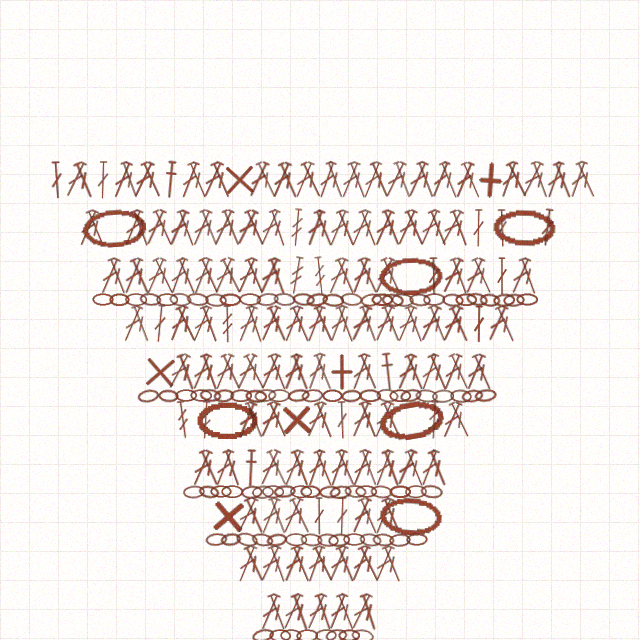chain: (376, 396, 446, 444), (378, 495, 444, 537), (81, 207, 147, 249), (378, 256, 444, 296), (492, 208, 557, 248), (196, 401, 259, 439), (235, 531, 259, 548), (399, 387, 423, 404), (305, 291, 329, 308), (465, 291, 489, 308), (251, 532, 274, 548), (359, 532, 382, 548), (329, 484, 352, 500), (137, 388, 160, 404), (461, 388, 484, 404), (360, 292, 383, 308), (266, 532, 288, 548), (198, 484, 220, 500), (205, 532, 228, 547), (273, 484, 296, 499), (344, 484, 367, 499), (420, 484, 443, 499), (199, 388, 222, 403), (254, 388, 277, 403), (287, 388, 310, 403), (301, 388, 324, 403), (376, 388, 399, 403), (474, 388, 497, 403), (139, 292, 162, 307), (169, 292, 192, 307), (186, 292, 209, 307), (256, 292, 279, 307), (273, 292, 296, 307), (292, 292, 315, 307), (340, 292, 363, 307), (220, 532, 242, 547), (213, 388, 235, 403), (300, 533, 323, 547), (372, 533, 395, 547), (370, 485, 393, 499), (415, 389, 438, 403), (381, 293, 404, 307), (391, 293, 414, 307), (251, 627, 275, 640), (317, 533, 339, 547), (328, 533, 350, 547), (389, 533, 411, 547), (183, 485, 205, 499), (241, 485, 263, 499), (252, 485, 274, 499), (319, 485, 341, 499), (245, 389, 267, 403), (432, 389, 454, 403), (450, 389, 472, 403), (205, 293, 227, 307), (322, 293, 344, 307), (409, 293, 431, 307), (442, 293, 464, 307), (479, 293, 501, 307), (493, 293, 515, 307), (503, 293, 525, 307), (158, 389, 179, 403), (341, 389, 362, 403), (285, 533, 307, 546), (343, 533, 365, 546), (406, 533, 428, 546), (210, 485, 232, 498), (221, 485, 243, 498), (262, 485, 284, 498), (290, 485, 312, 498), (355, 485, 377, 498), (389, 485, 411, 498), (405, 485, 427, 498), (175, 389, 197, 402), (190, 389, 212, 402), (230, 389, 252, 402), (268, 389, 290, 402), (359, 389, 381, 402), (389, 389, 411, 402), (92, 293, 114, 306), (125, 293, 147, 306), (156, 293, 178, 306), (219, 293, 241, 306), (239, 293, 261, 306), (371, 293, 393, 306), (423, 293, 445, 306), (455, 293, 477, 306), (516, 293, 538, 306), (325, 628, 348, 640), (351, 628, 374, 640), (300, 485, 321, 498), (322, 389, 343, 402), (109, 293, 130, 306), (269, 629, 291, 640), (280, 629, 302, 640), (296, 629, 318, 640), (315, 629, 337, 640), (338, 629, 360, 640)
double: (164, 352, 193, 391), (437, 208, 466, 247), (347, 592, 375, 631), (256, 544, 284, 583), (355, 544, 383, 583), (233, 496, 261, 535), (446, 400, 474, 439), (241, 352, 269, 391), (347, 304, 375, 343), (416, 304, 444, 343), (438, 304, 466, 343), (150, 256, 178, 295), (438, 256, 466, 295), (233, 208, 261, 247), (381, 160, 409, 199), (503, 160, 531, 199), (518, 160, 546, 199), (256, 592, 283, 632), (355, 496, 382, 536), (188, 448, 215, 488), (370, 400, 397, 440), (438, 400, 465, 440), (188, 352, 215, 392), (393, 352, 420, 392), (469, 352, 496, 392), (119, 304, 146, 344), (188, 304, 215, 344), (287, 304, 314, 344), (393, 304, 420, 344), (446, 304, 473, 344), (492, 304, 519, 344), (96, 256, 123, 296), (127, 256, 154, 296), (142, 256, 169, 296), (324, 256, 351, 296), (332, 256, 359, 296), (461, 256, 488, 296), (507, 256, 534, 296), (165, 208, 192, 248), (188, 208, 215, 248), (347, 208, 374, 248), (370, 208, 397, 248), (275, 160, 302, 200), (458, 160, 485, 200), (279, 592, 306, 631), (241, 544, 268, 583), (310, 544, 337, 583), (241, 496, 268, 535), (279, 496, 306, 535), (287, 496, 314, 535), (196, 448, 223, 487), (256, 448, 283, 487), (264, 448, 291, 487), (393, 448, 420, 487), (256, 400, 283, 439), (264, 400, 291, 439), (378, 400, 405, 439), (218, 352, 245, 391), (233, 352, 260, 391), (446, 352, 473, 391), (173, 304, 200, 343), (264, 304, 291, 343), (484, 304, 511, 343), (196, 256, 223, 295), (210, 256, 237, 295), (218, 256, 245, 295), (233, 256, 260, 295), (256, 256, 283, 295), (355, 256, 382, 295), (378, 256, 405, 295), (469, 256, 496, 295), (142, 208, 169, 247), (150, 208, 177, 247), (210, 208, 237, 247), (256, 208, 283, 247), (393, 208, 420, 247), (416, 208, 443, 247), (62, 160, 89, 199), (130, 160, 157, 199), (138, 160, 165, 199), (199, 160, 226, 199), (245, 160, 272, 199), (253, 160, 280, 199), (298, 160, 325, 199), (404, 160, 431, 199), (333, 592, 359, 632), (234, 544, 260, 584), (280, 544, 306, 584), (288, 544, 314, 584), (333, 544, 359, 584), (371, 544, 397, 584), (379, 544, 405, 584), (257, 496, 283, 536), (379, 496, 405, 536), (211, 448, 237, 488), (280, 448, 306, 488), (311, 448, 337, 488), (348, 448, 374, 488), (402, 448, 428, 488), (425, 448, 451, 488), (234, 400, 260, 440), (311, 400, 337, 440), (211, 352, 237, 392), (265, 352, 291, 392), (402, 352, 428, 392), (425, 352, 451, 392), (439, 352, 465, 392), (462, 352, 488, 392), (234, 304, 260, 344), (280, 304, 306, 344), (120, 256, 146, 296), (174, 256, 200, 296), (189, 256, 215, 296), (242, 256, 268, 296), (75, 208, 101, 248), (83, 208, 109, 248), (120, 208, 146, 248), (311, 208, 337, 248), (325, 208, 351, 248), (333, 208, 359, 248), (425, 208, 451, 248), (71, 160, 97, 200), (109, 160, 135, 200), (185, 160, 211, 200), (208, 160, 234, 200), (268, 160, 294, 200), (291, 160, 317, 200), (337, 160, 363, 200), (359, 160, 385, 200), (436, 160, 462, 200), (451, 160, 477, 200), (550, 160, 576, 200), (303, 592, 329, 631), (325, 544, 351, 583), (348, 496, 374, 535), (333, 448, 359, 487), (303, 400, 329, 439), (348, 400, 374, 439), (257, 352, 283, 391), (257, 304, 283, 343), (311, 304, 337, 343), (371, 304, 397, 343), (371, 256, 397, 295), (242, 208, 268, 247), (402, 208, 428, 247), (367, 160, 393, 199), (573, 160, 599, 199), (265, 592, 290, 632), (288, 592, 313, 632), (265, 544, 290, 584), (303, 544, 328, 584), (371, 496, 396, 536), (288, 448, 313, 488), (303, 448, 328, 488), (371, 448, 396, 488), (379, 448, 404, 488), (417, 448, 442, 488), (174, 352, 199, 392), (197, 352, 222, 392), (280, 352, 305, 392), (288, 352, 313, 392), (348, 352, 373, 392), (417, 352, 442, 392), (197, 304, 222, 344), (303, 304, 328, 344), (333, 304, 358, 344), (402, 304, 427, 344), (105, 256, 130, 296), (166, 256, 191, 296), (265, 256, 290, 296), (447, 256, 472, 296), (516, 256, 541, 296), (128, 208, 153, 248), (174, 208, 199, 248), (303, 208, 328, 248), (356, 208, 381, 248), (447, 208, 472, 248), (177, 160, 202, 200), (345, 160, 370, 200), (325, 592, 350, 631), (348, 544, 373, 583), (242, 400, 267, 439), (356, 400, 381, 439), (311, 352, 336, 391), (356, 352, 381, 391), (166, 304, 191, 343), (379, 304, 404, 343), (425, 304, 450, 343), (348, 256, 373, 295), (197, 208, 222, 247), (219, 208, 244, 247), (379, 208, 404, 247), (428, 160, 453, 199), (312, 592, 336, 632), (357, 592, 381, 632), (220, 448, 244, 488), (326, 448, 350, 488), (243, 304, 267, 344), (266, 208, 290, 248), (315, 160, 339, 200), (543, 160, 567, 200), (266, 496, 290, 535), (357, 448, 381, 487), (304, 352, 328, 391), (129, 304, 153, 343), (326, 304, 350, 343), (357, 304, 381, 343), (118, 160, 142, 199), (323, 160, 347, 199), (391, 160, 415, 199), (414, 160, 438, 199), (497, 160, 521, 199), (528, 160, 552, 199), (566, 160, 590, 199), (539, 208, 556, 247), (152, 304, 168, 343), (49, 161, 64, 199), (335, 497, 349, 535), (335, 401, 349, 439), (495, 209, 509, 247), (96, 161, 110, 199), (427, 257, 440, 295), (472, 209, 485, 247), (313, 497, 325, 535), (473, 305, 485, 343), (496, 257, 508, 295)
half_double: (379, 352, 397, 391), (162, 160, 179, 199), (243, 449, 259, 487)
single: (208, 496, 248, 536), (140, 352, 180, 392), (470, 160, 510, 200), (277, 400, 316, 439), (220, 160, 259, 199), (323, 353, 361, 391)
treble: (287, 256, 306, 295), (174, 400, 192, 439), (312, 256, 328, 295), (289, 208, 305, 247), (198, 401, 213, 439), (427, 401, 441, 439), (221, 305, 234, 343)
